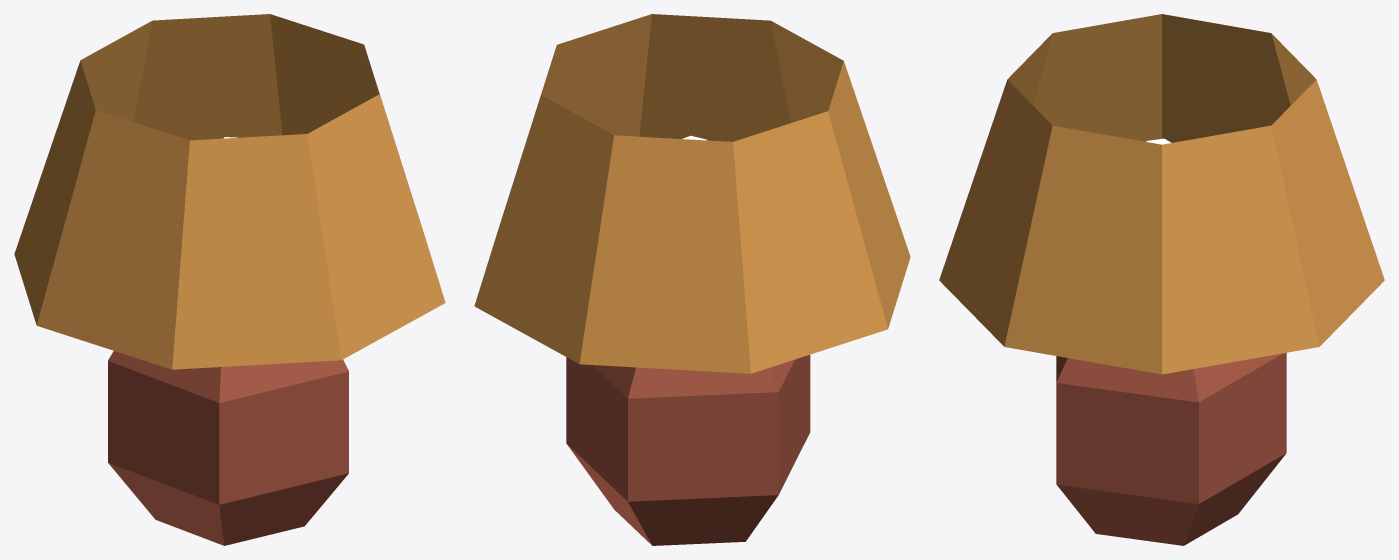
File: lampka.fbx
The picture shows the model from 3 angles, left to right: view 1: azimuth 30°, elevation 25°; view 2: azimuth 150°, elevation 25°; view 3: azimuth 270°, elevation 25°; orthographic projection.
Visible parts, largest first — view 1: Sphere.001; view 2: Sphere.001; view 3: Sphere.001.
Part boxes in pixels (box(x1,y1,x2,y2)): Sphere.001: box(14, 14, 445, 545); Sphere.001: box(474, 14, 910, 545); Sphere.001: box(939, 14, 1384, 545).
Bounding box in the file's own units: 339 × 364 × 339.
